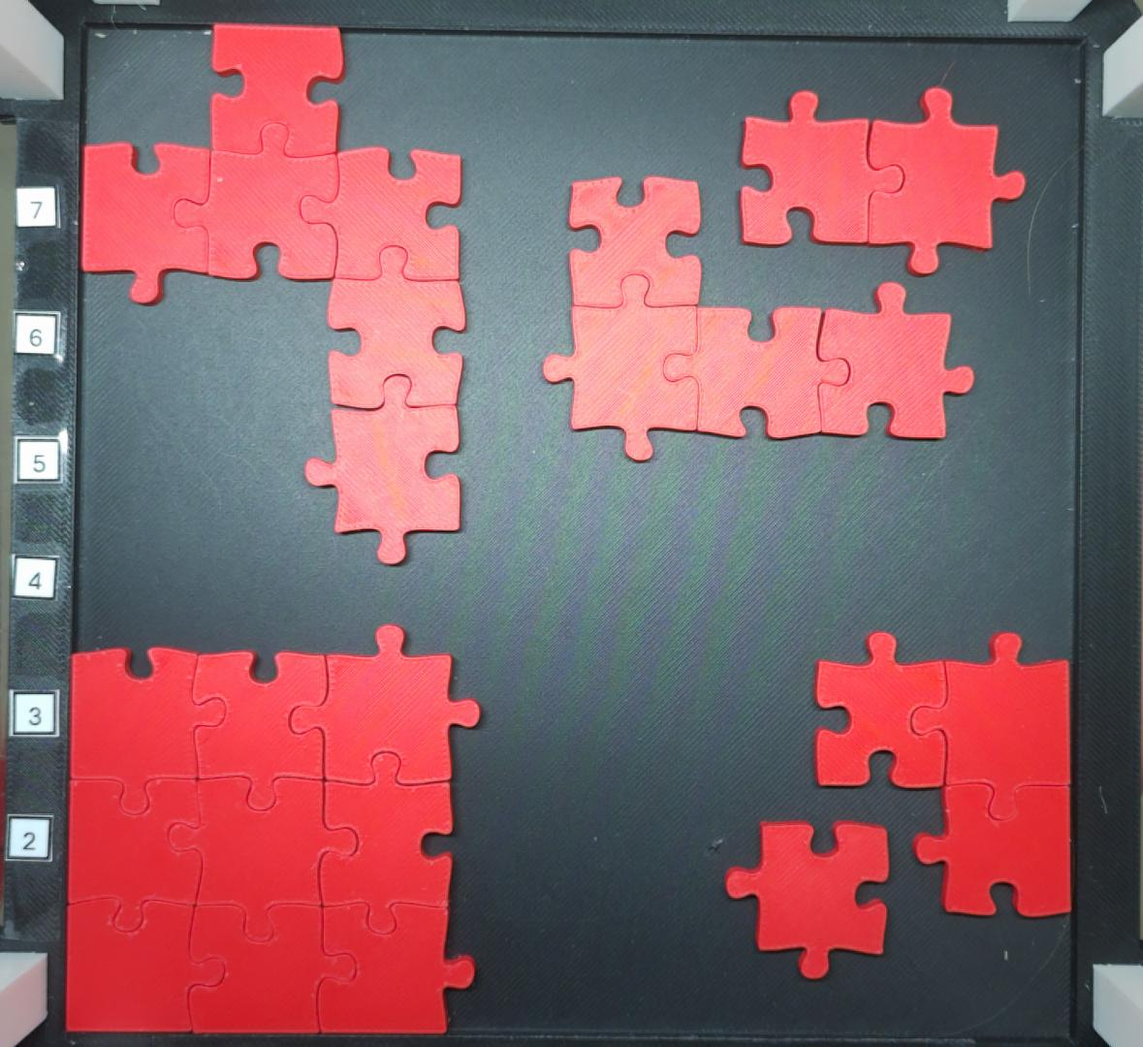p_1: (723, 817, 891, 984)
p_2: (736, 86, 1027, 279)
p_3: (811, 629, 1075, 920)
p_4: (538, 174, 976, 465)
p_m: (81, 23, 468, 567), (61, 620, 483, 1040)
